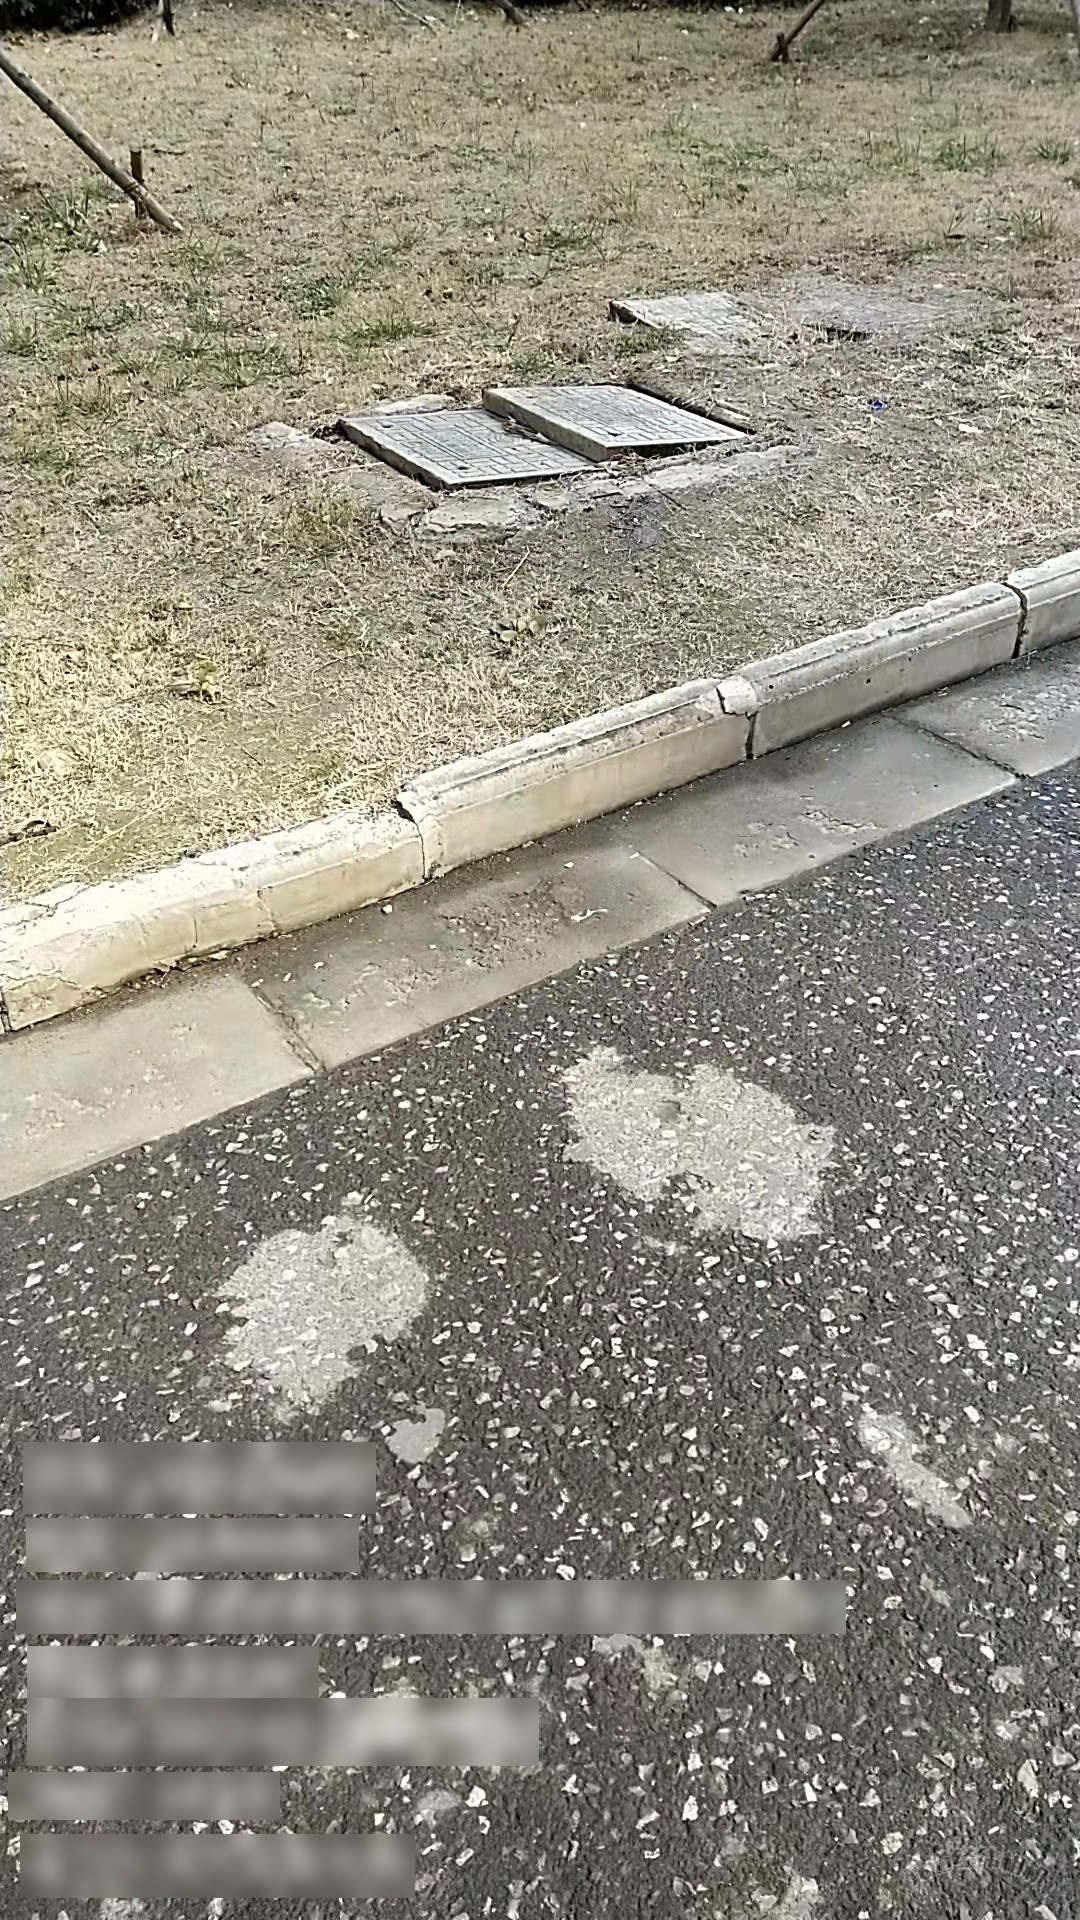uncovered: (334, 378, 757, 502)
